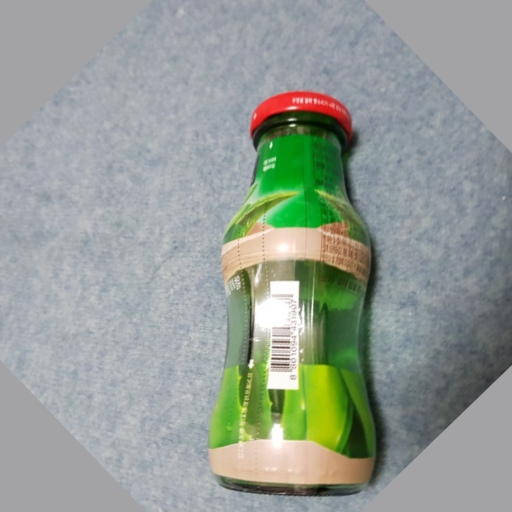Glass_4: (205, 88, 387, 495)
